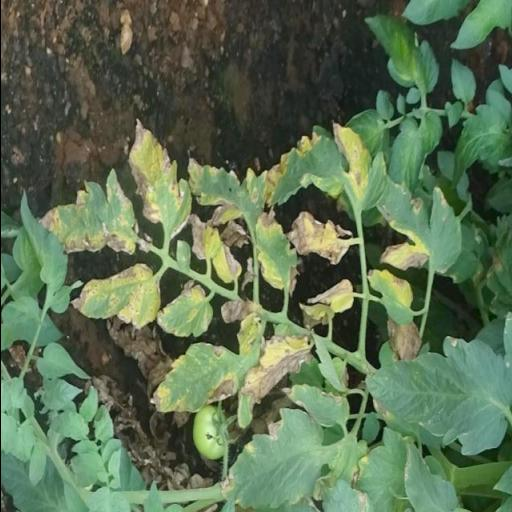Early Blight: (148, 312, 262, 418), (260, 122, 384, 214), (219, 408, 324, 510), (372, 176, 461, 277), (34, 168, 134, 254), (126, 117, 194, 237), (68, 261, 158, 327), (184, 154, 258, 232), (362, 268, 415, 328), (154, 284, 210, 336)
